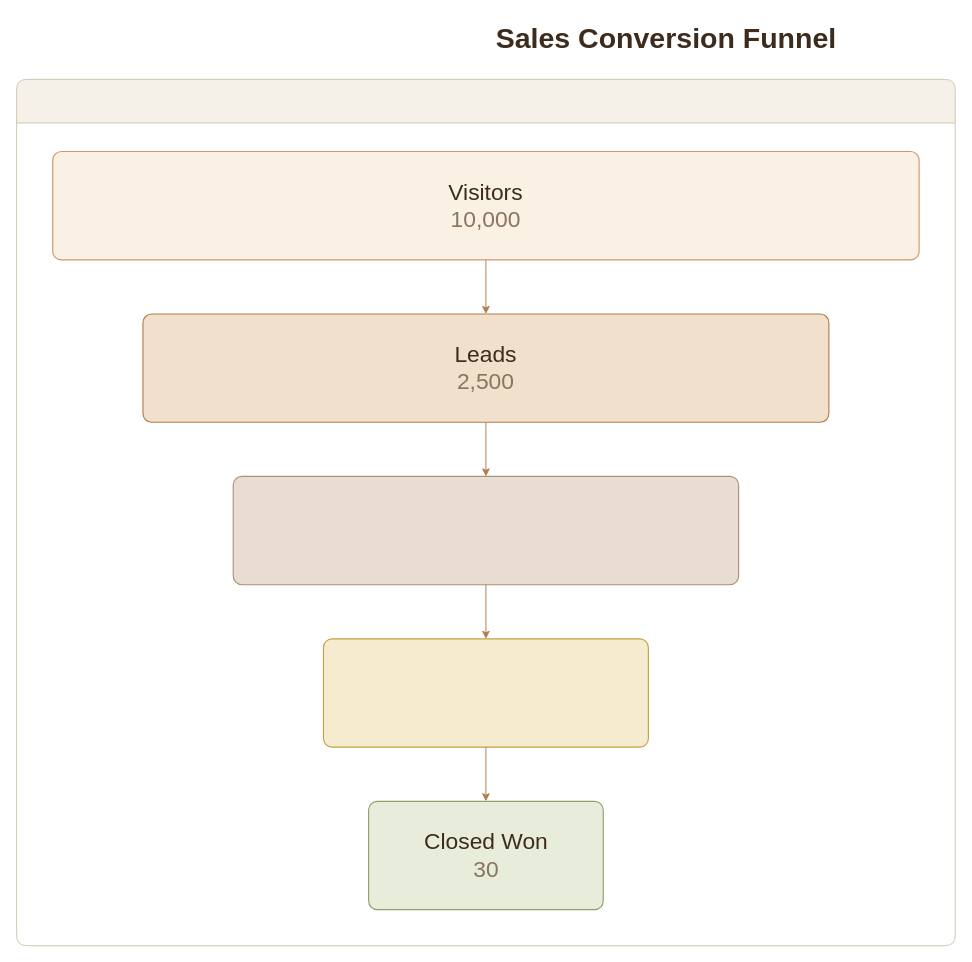
Image size: 972x962. Some labels were removed from this diagram. The shapes that lost their labels are listed below. From the top down, each one's box as (x1, y1, x2, y2) in pixels, then its label:
(232, 475, 739, 585): Opportunities 500
(322, 638, 648, 747): Proposals 100
